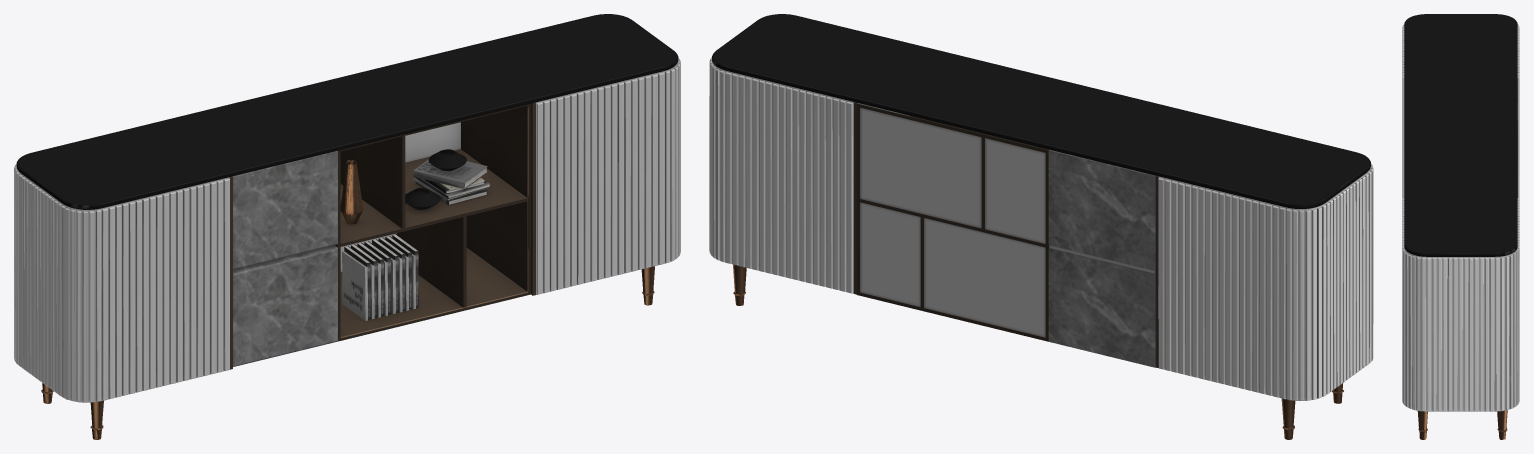
File: raw_model.obj
3 renders of one model, left to right at view 1: azimuth 30°, elevation 25°; view 2: azimuth 150°, elevation 25°; view 3: azimuth 270°, elevation 25°, orthographic. The views are drawn at different scales.
Parts seen in each view (by area): view 1: solid_003, solid_002, solid_006, solid_007, solid_014, solid_013, solid_011, solid_001, solid_009, solid_012, solid_010, solid_008 (+1 smaller); view 2: solid_003, solid_002, solid_011, solid_007, solid_006, solid_001, solid_004; view 3: solid_002, solid_003, solid_004.
Part boxes in pixels (x1=…): solid_003: x1=14, y1=57, x2=680, y2=402; solid_002: x1=16, y1=14, x2=678, y2=209; solid_006: x1=335, y1=103, x2=530, y2=341; solid_007: x1=232, y1=150, x2=337, y2=366; solid_014: x1=342, y1=177, x2=483, y2=320; solid_013: x1=344, y1=182, x2=487, y2=319; solid_011: x1=340, y1=122, x2=460, y2=272; solid_001: x1=229, y1=102, x2=535, y2=369; solid_009: x1=405, y1=149, x2=466, y2=209; solid_012: x1=412, y1=159, x2=487, y2=188; solid_010: x1=340, y1=160, x2=363, y2=224; solid_008: x1=343, y1=181, x2=489, y2=267; solid_003: x1=709, y1=57, x2=1373, y2=400; solid_002: x1=712, y1=14, x2=1370, y2=208; solid_011: x1=857, y1=103, x2=1154, y2=337; solid_007: x1=1048, y1=150, x2=1155, y2=367; solid_006: x1=856, y1=103, x2=1049, y2=341; solid_001: x1=854, y1=102, x2=1158, y2=367; solid_004: x1=733, y1=264, x2=1343, y2=439; solid_002: x1=1404, y1=14, x2=1517, y2=256; solid_003: x1=1402, y1=24, x2=1519, y2=411; solid_004: x1=1417, y1=410, x2=1507, y2=439.
Bounding box in the file's own units: 2.01 × 0.765 × 0.414.
1 material, 1 textured.
